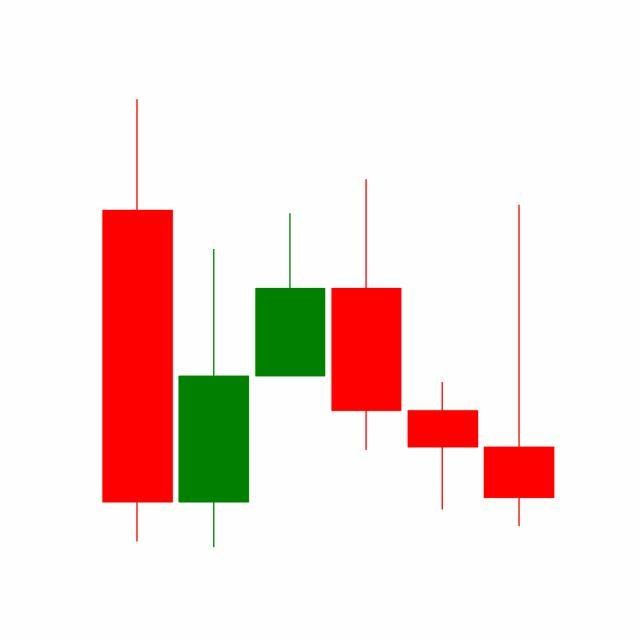Hammer: (404, 381, 482, 512)
